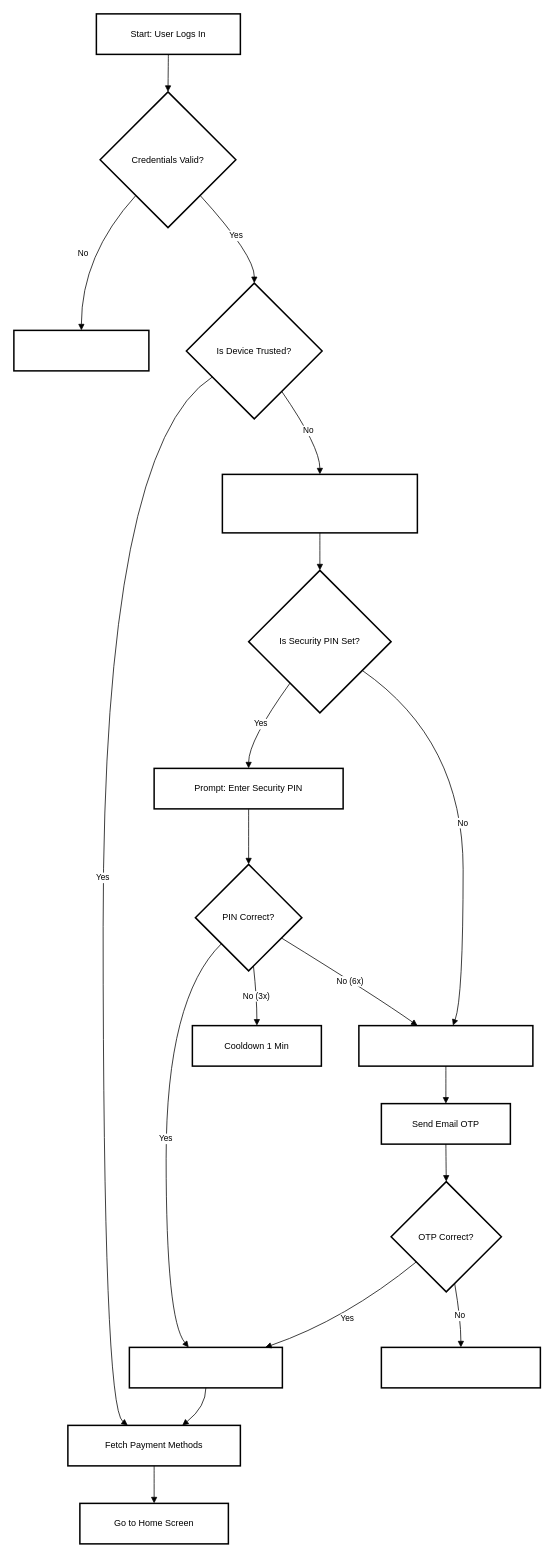
This 554x1557 diagram has some shape labels left out. Here are the shapes that lost their labels. From the top down, the centre of each, then its label:
At point 81,350: "Show Login Error".
At point 319,503: "Show 'Trust This Device' Modal".
At point 445,1045: "Force Email Verification".
At point 205,1367: "Mark Device Trusted".
At point 460,1367: "Show Error / Lockout".
